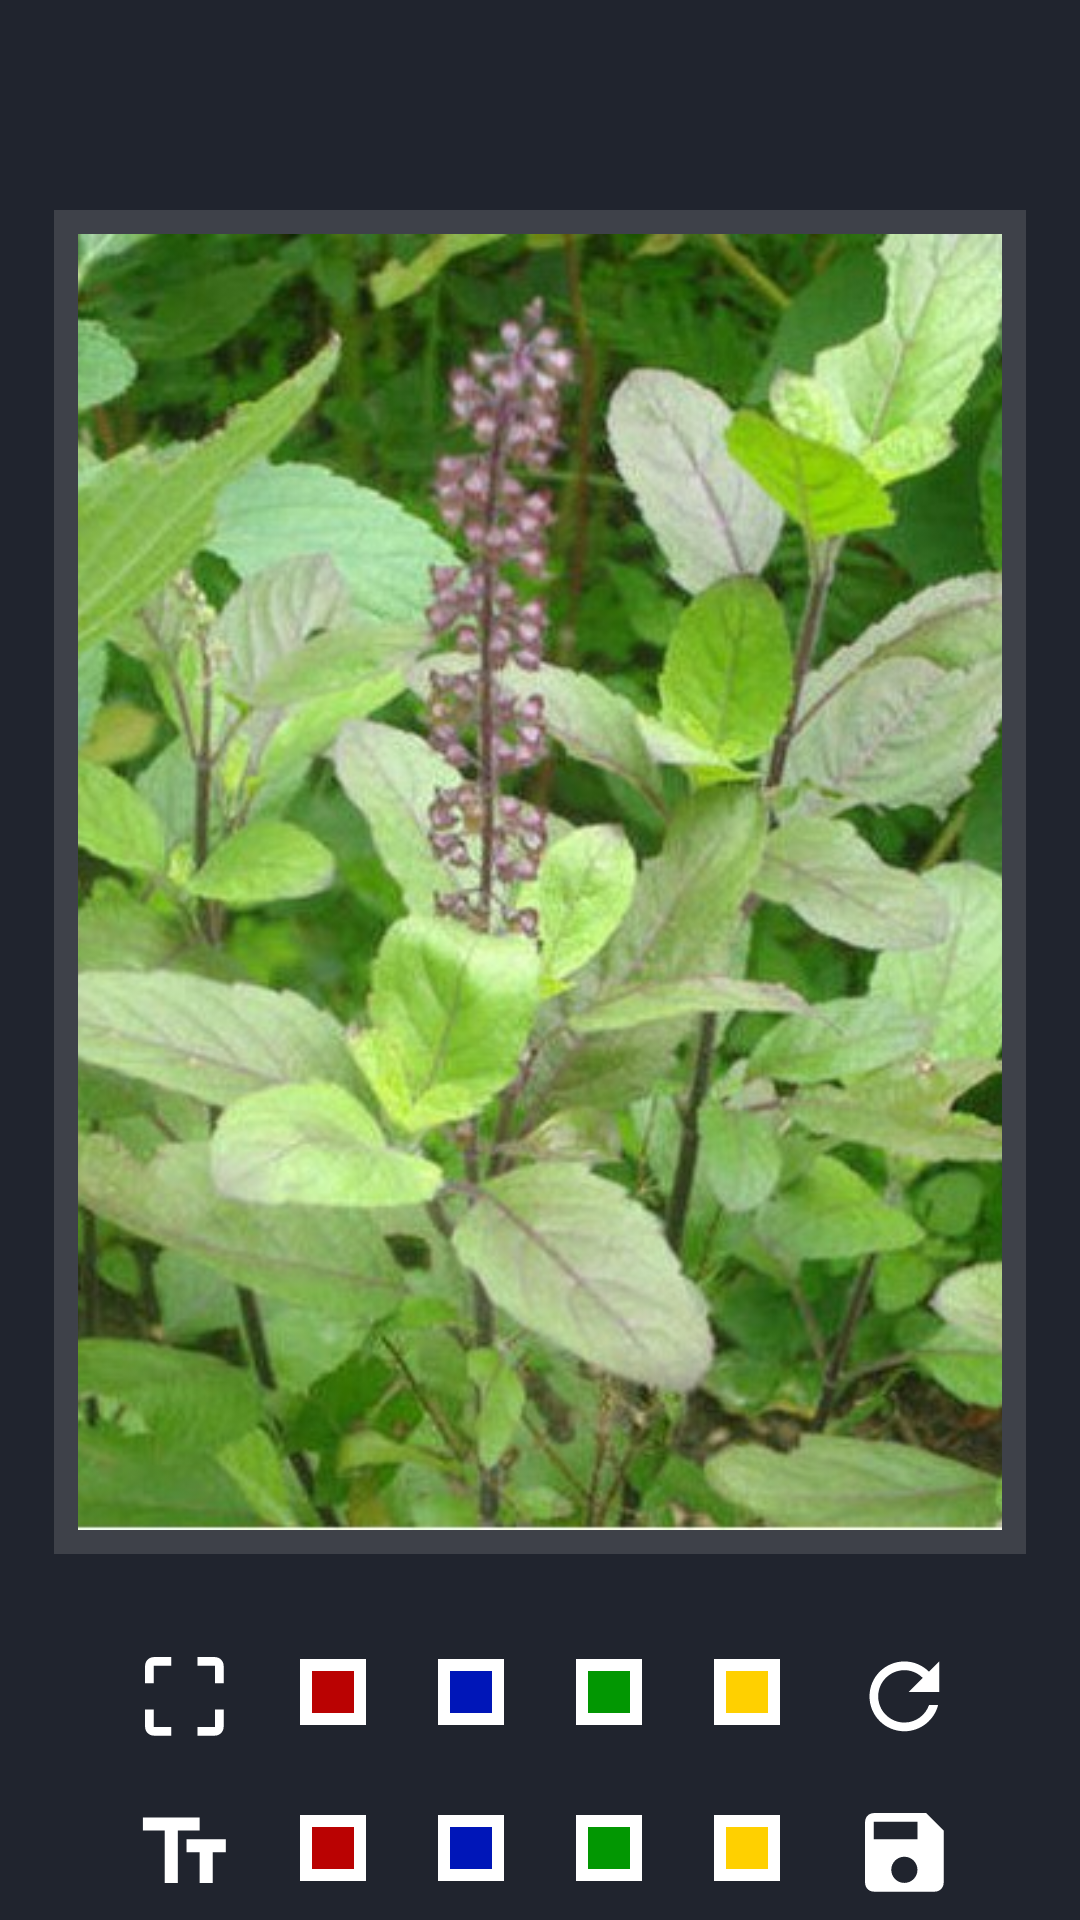

Screen size 1080px x 1920px. Icon name, then its center in pixels as (x=x, y=y):
crop square: (x=184, y=1696)
refresh: (x=904, y=1696)
save: (x=904, y=1852)
text fields: (x=184, y=1850)
